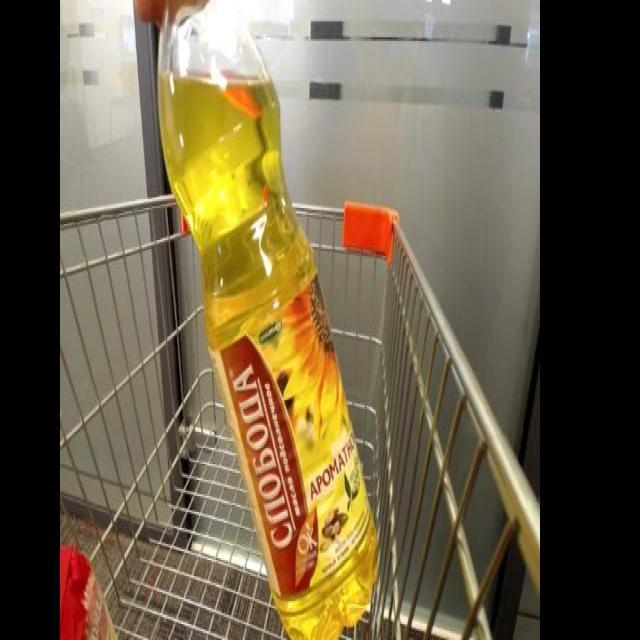Oil: (150, 1, 386, 639)
